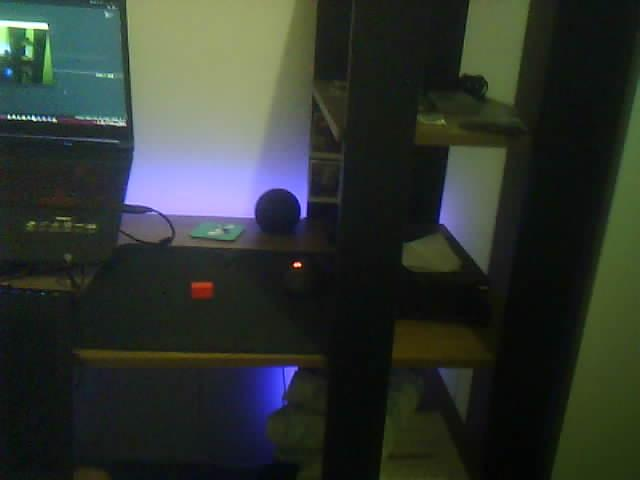lego: (190, 280, 215, 300)
